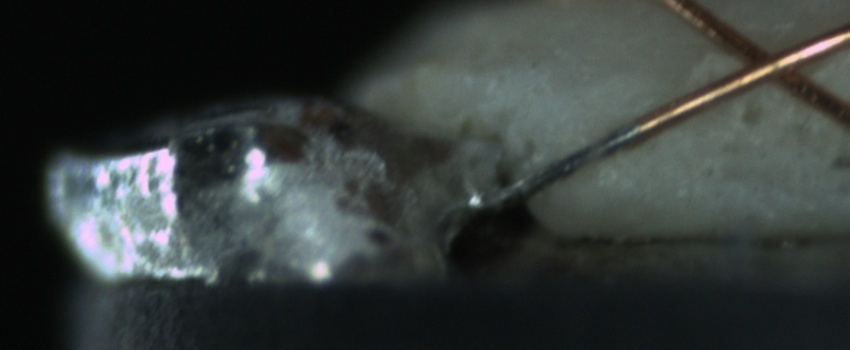CL: (709, 21, 838, 102)
TS: (469, 122, 639, 213)
TTCW: (472, 102, 668, 214)
